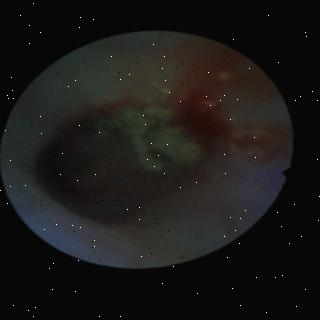stone: (94, 109, 203, 174)
tissue: (8, 37, 288, 271)
